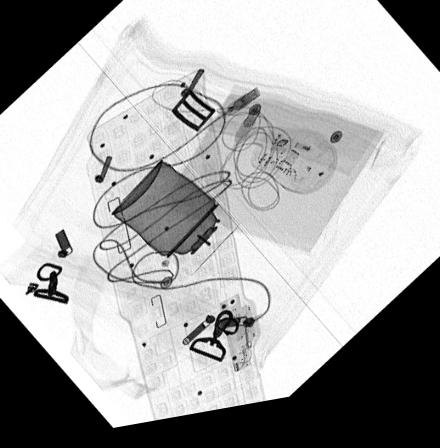Sprayer: (110, 165, 238, 285)
